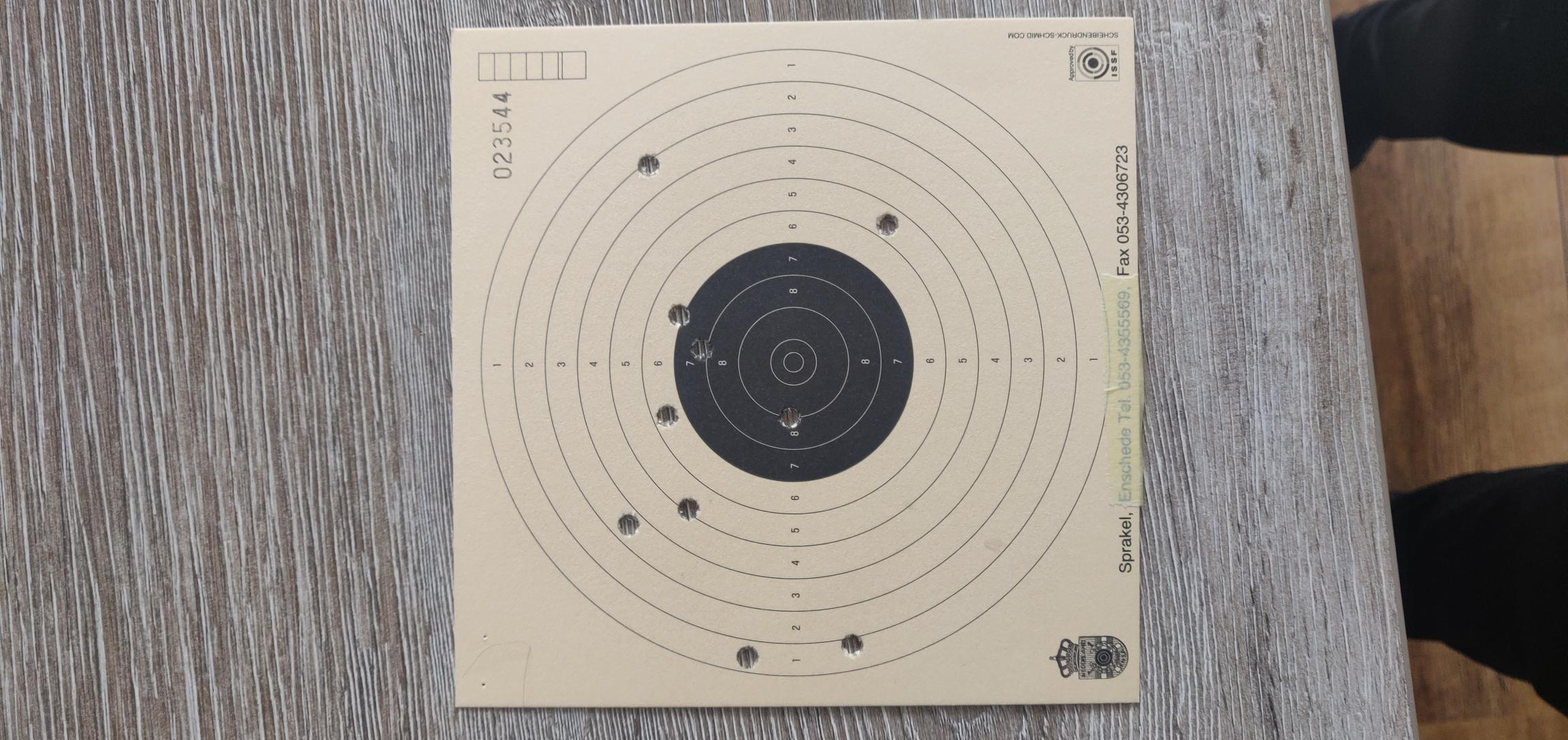hole: (657, 365, 712, 380), (872, 313, 927, 328), (1064, 412, 1124, 425), (427, 290, 486, 303), (660, 308, 719, 321), (175, 396, 233, 408), (801, 325, 854, 338), (1191, 300, 1246, 312), (152, 346, 202, 359), (462, 319, 514, 331)
